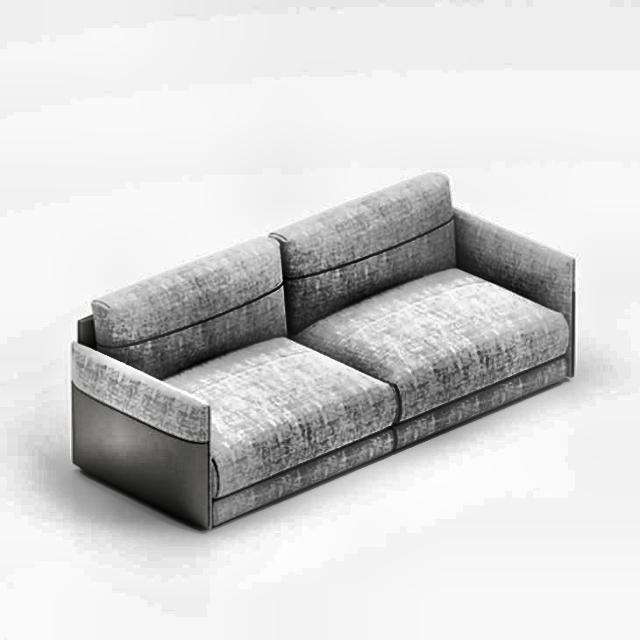sofa: (69, 170, 576, 530)
